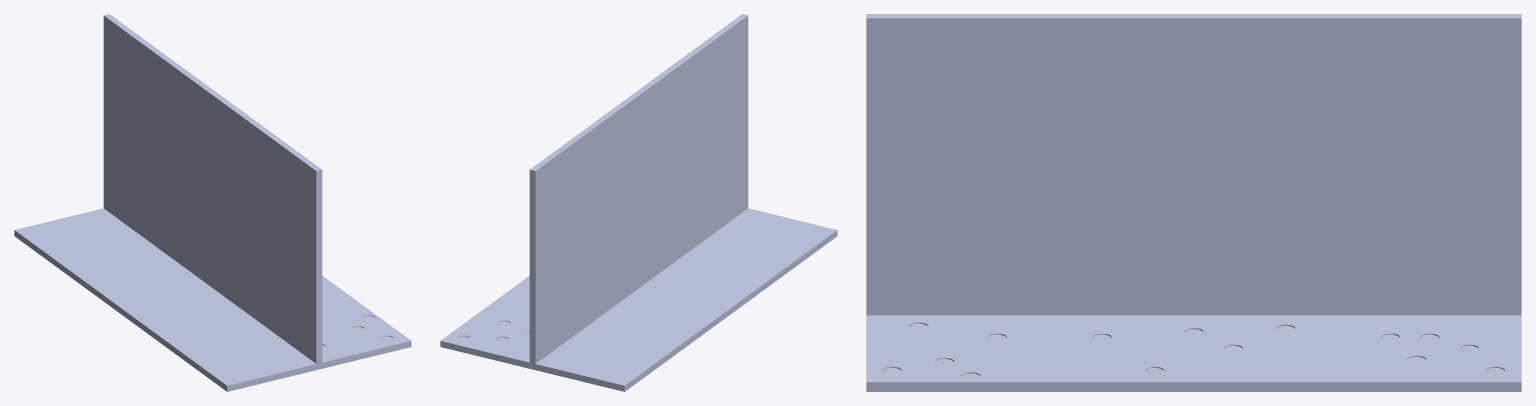
The model's file is T_Stoss.fbx.
3 renders of one model, left to right at view 1: azimuth 30°, elevation 25°; view 2: azimuth 150°, elevation 25°; view 3: azimuth 270°, elevation 25°, orthographic. The views are drawn at different scales.
Visible parts, largest first — view 1: T_Stoss; view 2: T_Stoss; view 3: T_Stoss.
Boxes of the visible parts, box(x1,y1,x2,y2) form: T_Stoss: box(14, 14, 411, 391); T_Stoss: box(440, 14, 837, 391); T_Stoss: box(866, 14, 1521, 391).
Bounding box in the file's own units: 12.5 × 12.9 × 25.
